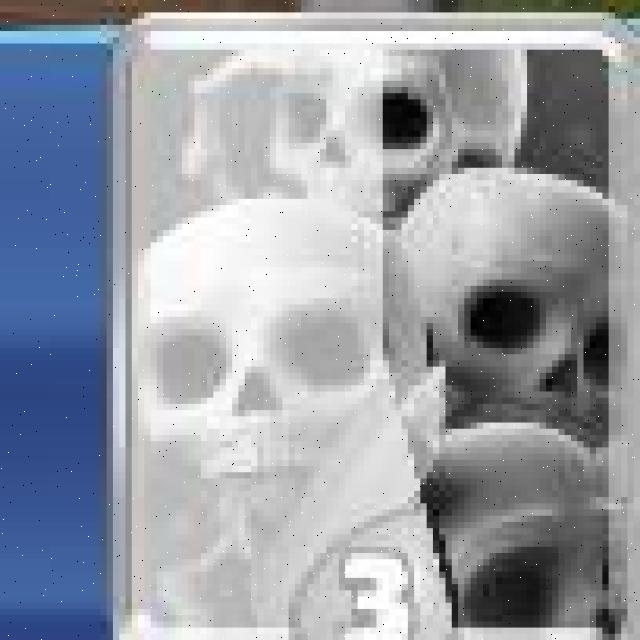Skeleton_Army: (115, 14, 640, 640)
